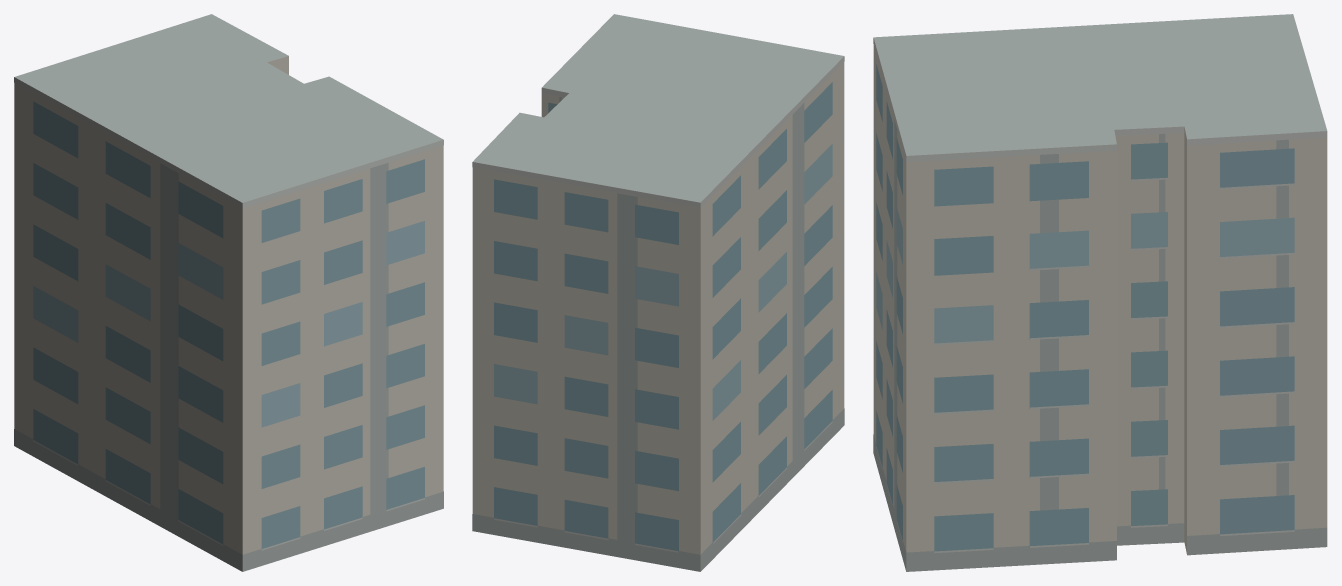
The model's file is survey-upis-32925406.glb.
3 renders of one model, left to right at view 1: azimuth 30°, elevation 25°; view 2: azimuth 150°, elevation 25°; view 3: azimuth 270°, elevation 25°, orthographic. The views are drawn at different scales.
Parts seen in each view (by area): view 1: survey-upis-32925406.tmp; view 2: survey-upis-32925406.tmp; view 3: survey-upis-32925406.tmp.
Part boxes in pixels (bbox=[...]): survey-upis-32925406.tmp: bbox=[14, 14, 443, 571]; survey-upis-32925406.tmp: bbox=[472, 14, 844, 571]; survey-upis-32925406.tmp: bbox=[873, 14, 1327, 571].
Bounding box in the file's own units: 11.79 × 16.1 × 15.93.
